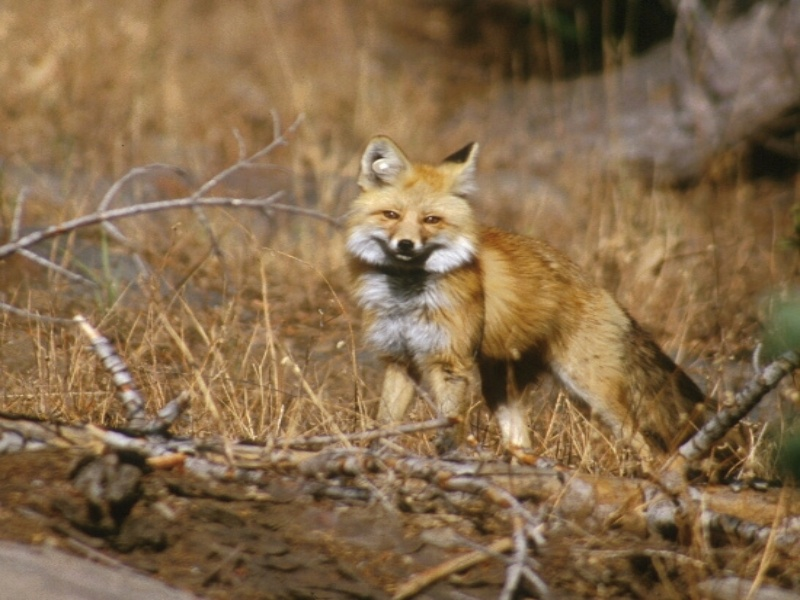fox: (350, 132, 701, 491)
